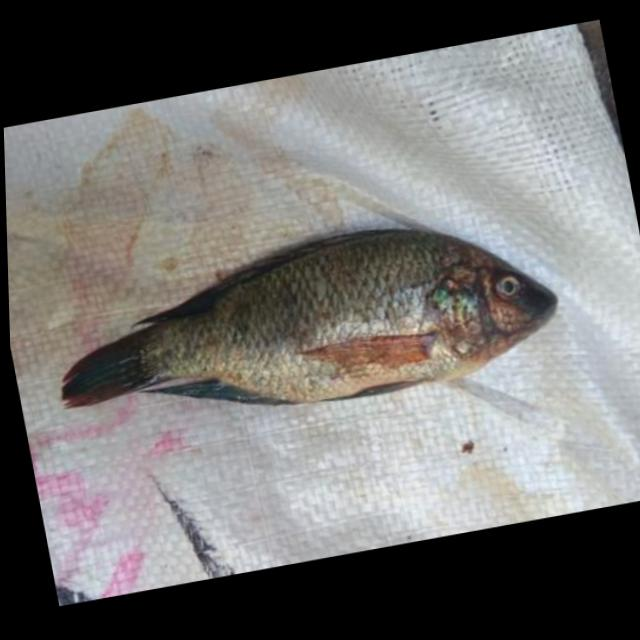Tilapia: (30, 197, 573, 455)
